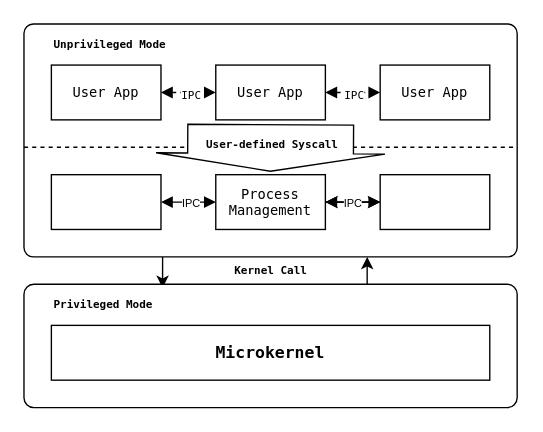
This 543x432 diagram has some shape labels left out. Here are the shapes that lost their labels. From the top down, the centre of each, then its label:
the point at 105,201: Device Driver
the point at 434,201: Memory Management
